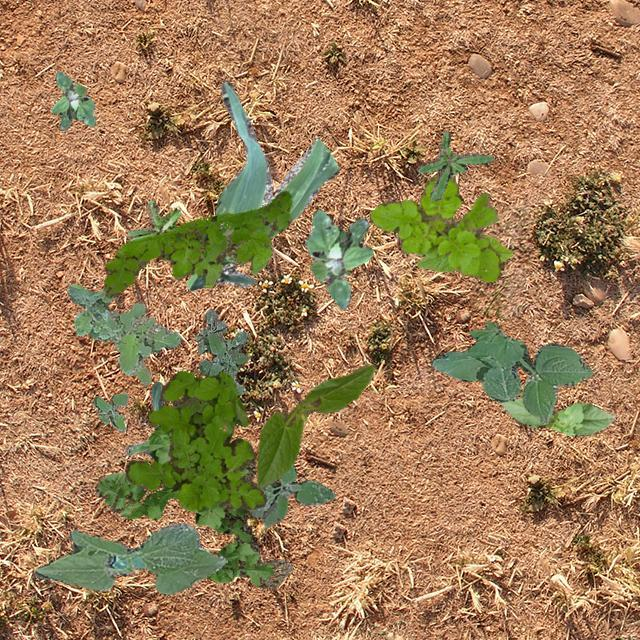crop: (185, 80, 338, 290), (255, 363, 374, 488), (34, 522, 226, 594), (499, 396, 614, 436), (416, 234, 512, 270), (124, 380, 162, 454)
weed: (94, 426, 292, 586), (124, 369, 266, 512), (102, 190, 290, 296), (430, 321, 592, 424), (368, 174, 502, 280), (66, 284, 180, 384), (304, 208, 372, 310), (416, 128, 492, 202), (250, 462, 334, 526), (194, 307, 248, 393), (50, 70, 94, 130), (126, 200, 180, 240), (92, 392, 128, 430)
